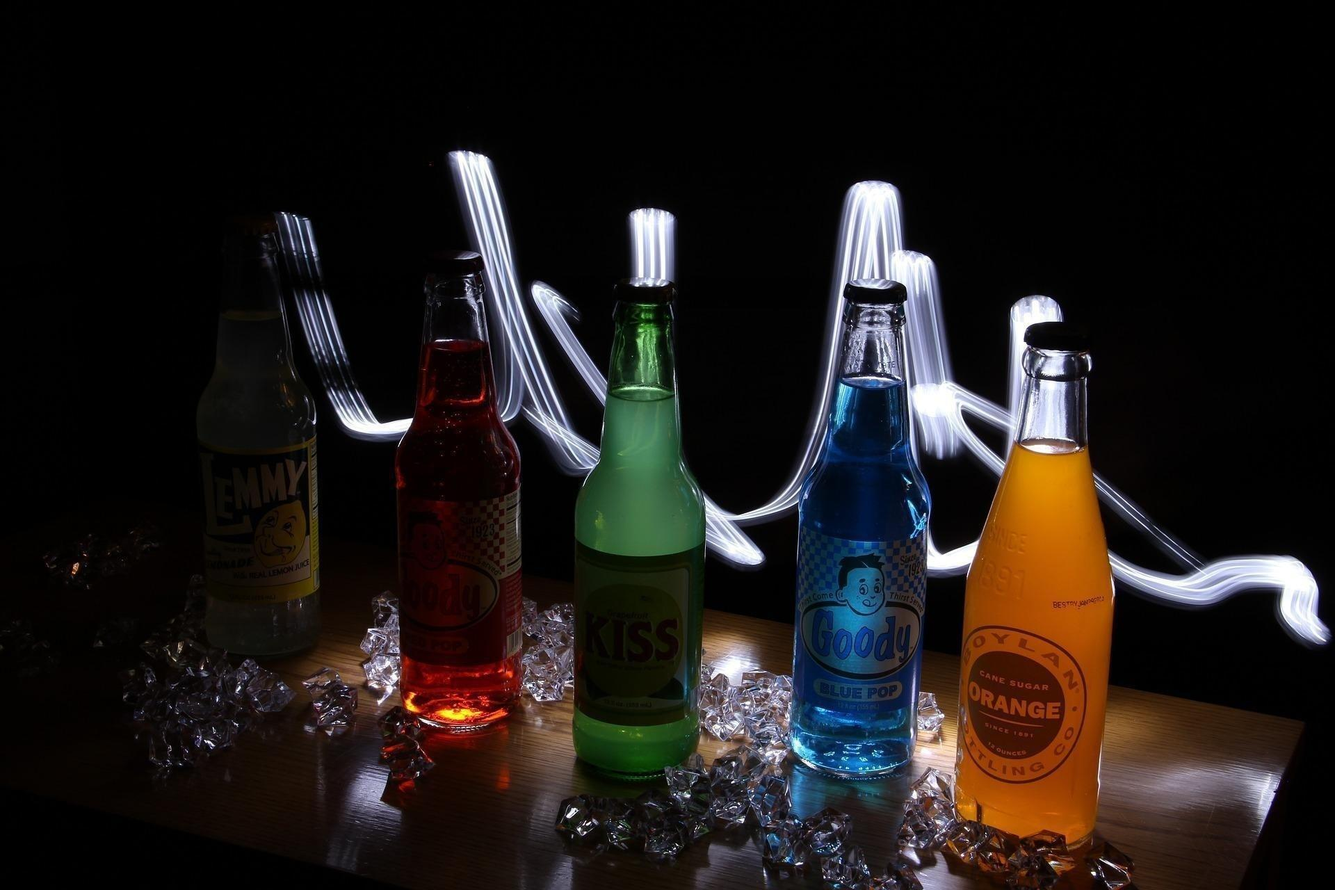bottle-glass: (944, 309, 1122, 865), (775, 270, 941, 791), (374, 232, 540, 753), (562, 268, 728, 788), (186, 205, 332, 674)
